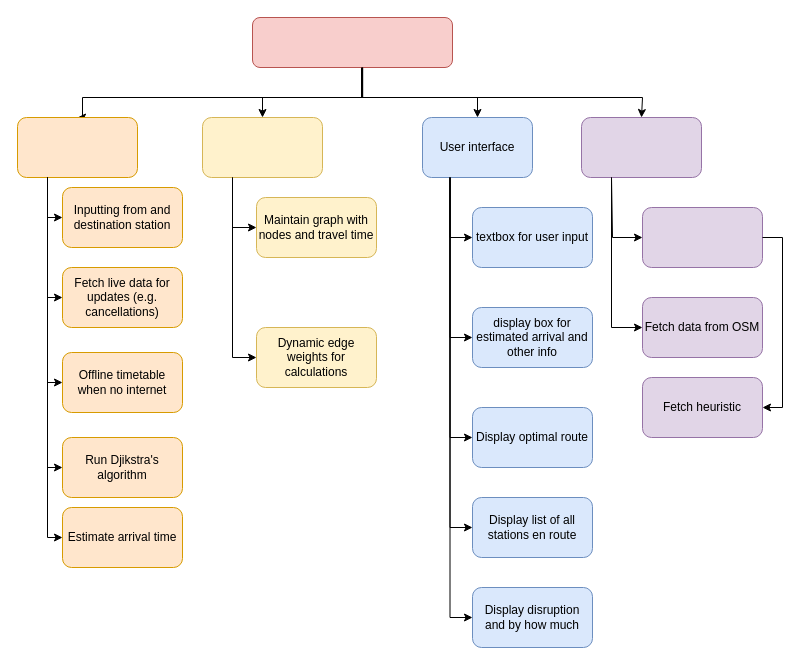
Image size: 808x665. Some labels were removed from this diagram. The centre of each missing label's shape, as x and y in pixels:
"Calculating optimal train journey" goes at point (77, 147).
"Calculating walking distance" goes at point (641, 147).
"Cambridge Journey planner" goes at point (352, 42).
"Station network" goes at point (262, 147).
"Use A* algorithm" goes at point (702, 237).
